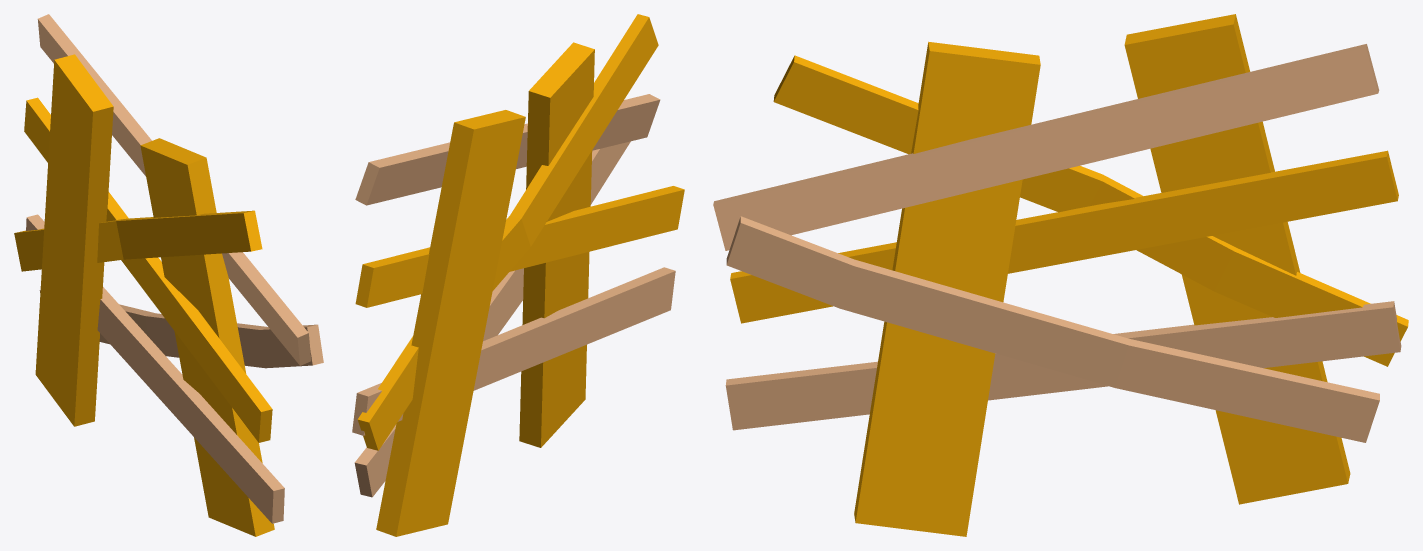
Rendered from m_nailed.glb.
The picture shows the model from 3 angles, left to right: view 1: azimuth 30°, elevation 25°; view 2: azimuth 150°, elevation 25°; view 3: azimuth 270°, elevation 25°; orthographic projection. The views are drawn at different scales.
Parts seen in each view (by area): view 1: M_Nailed.002, M_Nailed.003, M_Nailed.004, M_Nailed.001, M_Nailed.006, M_Nailed.005, M_Nailed; view 2: M_Nailed.002, M_Nailed.003, M_Nailed.006, M_Nailed.001, M_Nailed.004, M_Nailed.005, M_Nailed; view 3: M_Nailed.003, M_Nailed, M_Nailed.005, M_Nailed.002, M_Nailed.001, M_Nailed.004, M_Nailed.006.
Part boxes in pixels (x1,y1,x2,y2): M_Nailed.002: (35,54,113,426); M_Nailed.003: (140,138,274,536); M_Nailed.004: (26,214,284,523); M_Nailed.001: (24,97,272,442); M_Nailed.006: (14,210,262,271); M_Nailed.005: (37,14,311,365); M_Nailed: (39,290,323,368); M_Nailed.002: (376,110,525,536); M_Nailed.003: (519,42,594,447); M_Nailed.006: (357,14,658,450); M_Nailed.001: (355,186,684,307); M_Nailed.004: (352,267,675,435); M_Nailed.005: (355,94,660,205); M_Nailed: (354,141,630,497); M_Nailed.003: (854,41,1040,536); M_Nailed: (726,216,1379,442); M_Nailed.005: (713,44,1379,250); M_Nailed.002: (1124,14,1350,504); M_Nailed.001: (730,150,1398,323); M_Nailed.004: (725,301,1401,430); M_Nailed.006: (773,55,1408,366).
Size of the model in its own units: 0.3344 by 1.71 by 2.21.
Materials: 1 (1 with a texture image).
